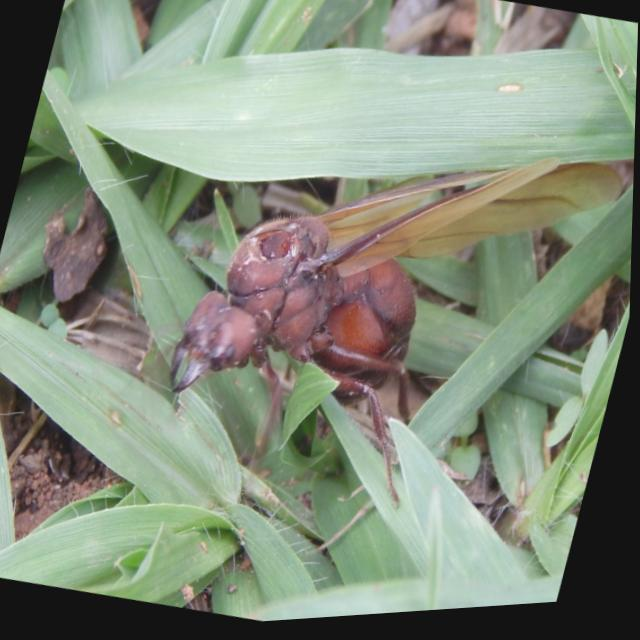Alive-Female-Alate: (147, 85, 628, 558)
